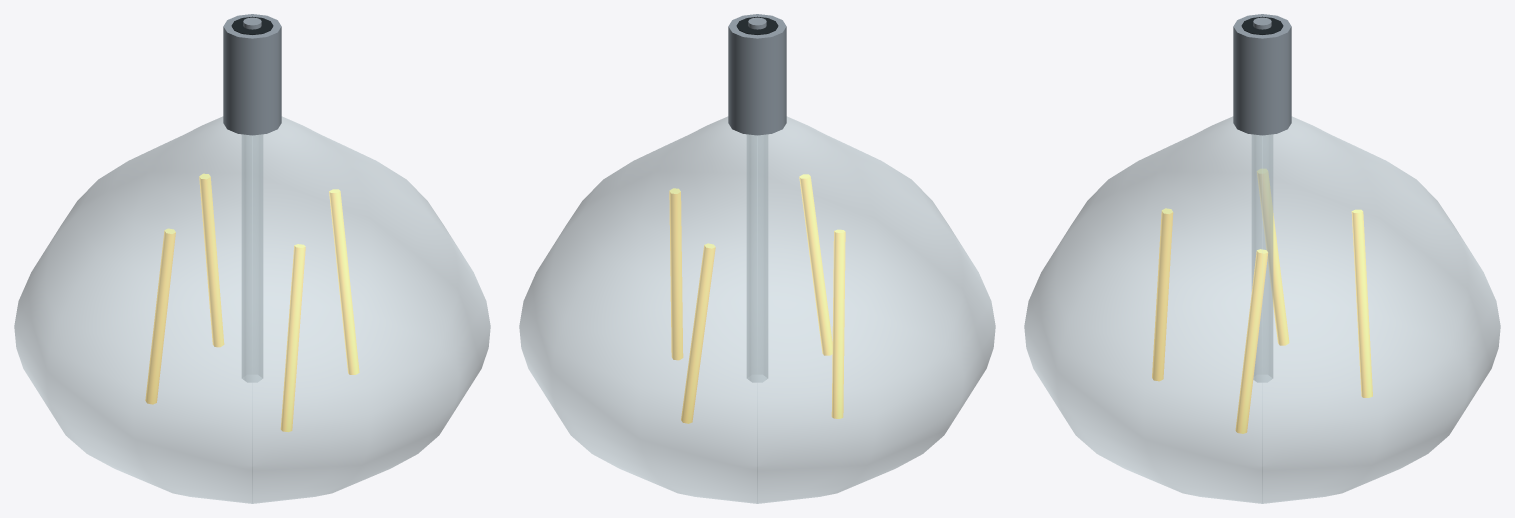
Rendered from source.glb.
3 renders of one model, left to right at view 1: azimuth 30°, elevation 25°; view 2: azimuth 150°, elevation 25°; view 3: azimuth 270°, elevation 25°, orthographic.
Visible parts, largest first — view 1: 光学透明件, Emitters, 机加工金属; view 2: 光学透明件, Emitters, 机加工金属; view 3: 光学透明件, Emitters, 机加工金属.
Boxes of the visible parts, left/top/right/bottom form: 光学透明件: left=14, top=116, right=490, bottom=503; Emitters: left=145, top=173, right=359, bottom=431; 机加工金属: left=223, top=14, right=281, bottom=135; 光学透明件: left=519, top=116, right=995, bottom=503; Emitters: left=669, top=174, right=845, bottom=423; 机加工金属: left=728, top=14, right=786, bottom=135; 光学透明件: left=1024, top=116, right=1500, bottom=503; Emitters: left=1152, top=169, right=1372, bottom=433; 机加工金属: left=1233, top=14, right=1291, bottom=135.
Bounding box in the file's own units: 0.2207 × 0.2275 × 0.2207.
